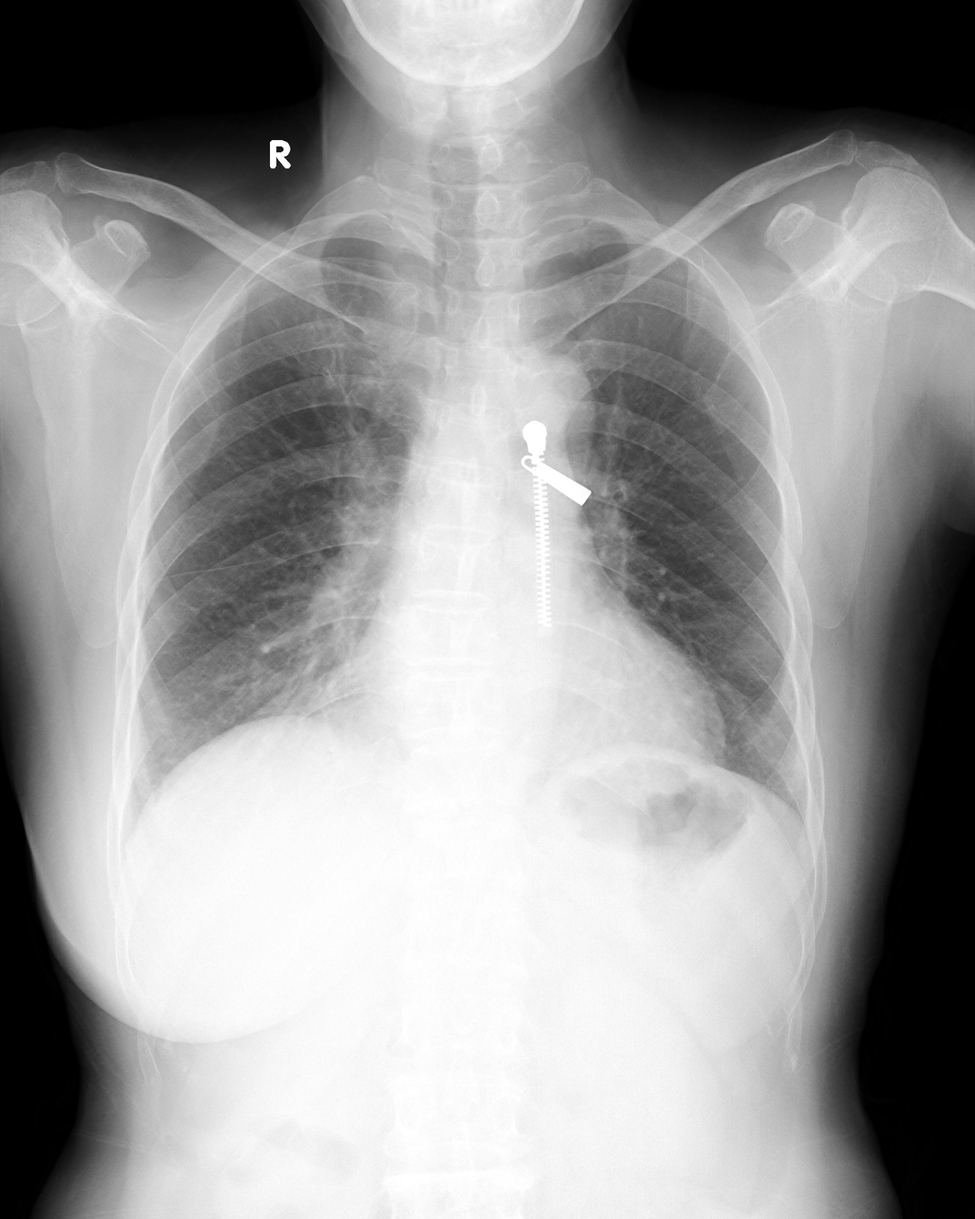Aortic enlargement: (485, 349, 595, 468)
Cardiomegaly: (332, 625, 724, 762)
